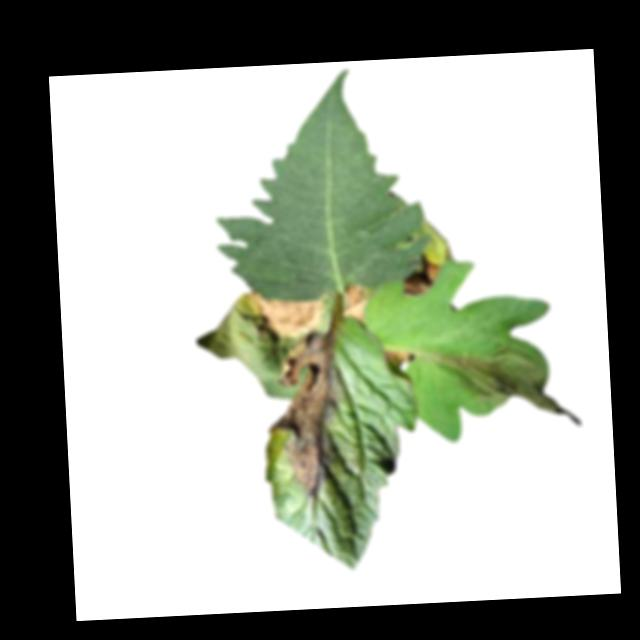Late_blight: (263, 329, 348, 499), (443, 342, 582, 435), (245, 285, 330, 341), (401, 260, 443, 299), (342, 280, 371, 321), (384, 346, 413, 364)
healthy: (204, 65, 431, 306)
